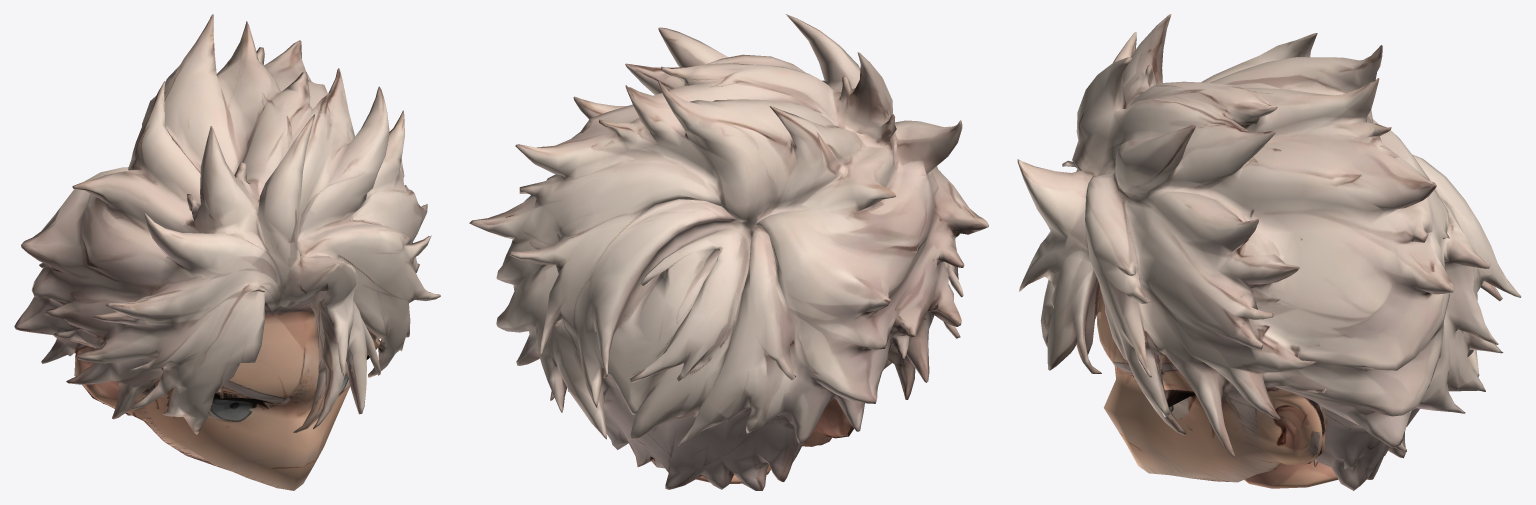
The picture shows the model from 3 angles, left to right: view 1: azimuth 30°, elevation 25°; view 2: azimuth 150°, elevation 25°; view 3: azimuth 270°, elevation 25°; orthographic projection. The views are drawn at different scales.
Parts seen in each view (by area): view 1: tripo_node_9c46b4b4-1340-4815-95a7-10746eeb397d; view 2: tripo_node_9c46b4b4-1340-4815-95a7-10746eeb397d; view 3: tripo_node_9c46b4b4-1340-4815-95a7-10746eeb397d.
Part boxes in pixels (x1,y1,x2,y2): tripo_node_9c46b4b4-1340-4815-95a7-10746eeb397d: [14, 14, 440, 490]; tripo_node_9c46b4b4-1340-4815-95a7-10746eeb397d: [469, 14, 988, 490]; tripo_node_9c46b4b4-1340-4815-95a7-10746eeb397d: [1017, 14, 1521, 490].
Size of the model in its own units: 0.9362 by 0.9503 by 0.9744.
Materials: 1 (1 with a texture image).
